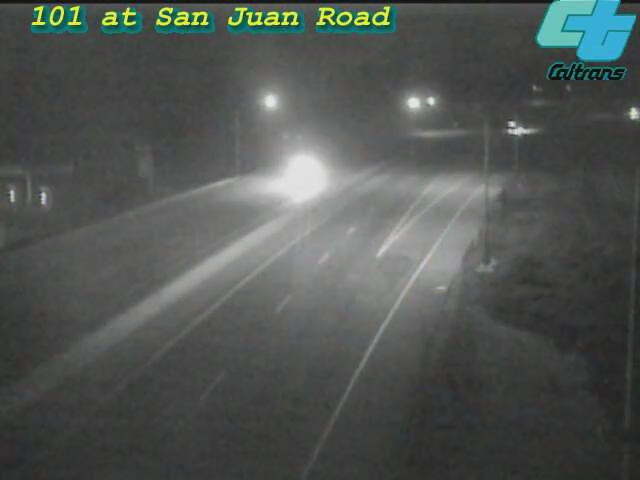vehicle: (264, 131, 344, 211), (498, 101, 548, 151)
